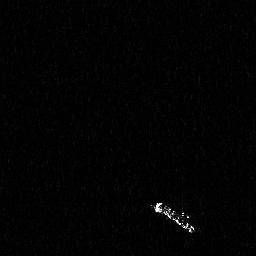ship: (149, 199, 198, 236)
